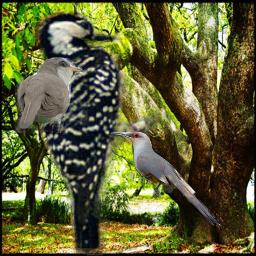Cuckoo: (110, 130, 222, 228), (14, 57, 84, 133)
Woodpecker: (32, 6, 162, 256)
